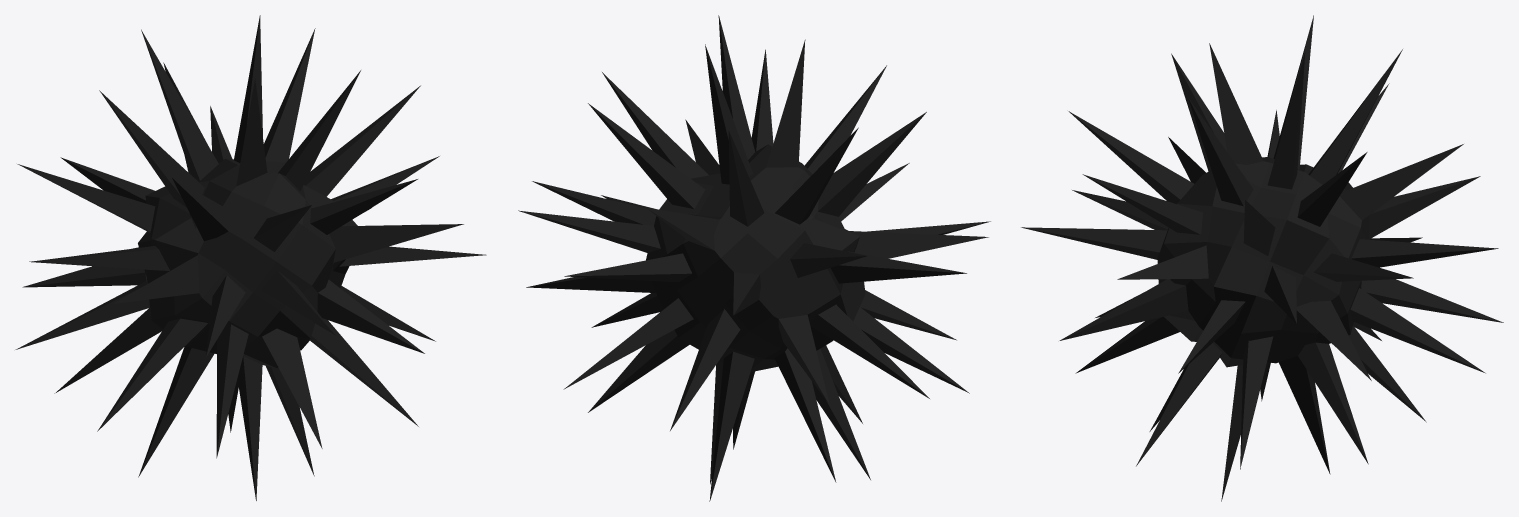
The model's file is Dark2.fbx.
3 renders of one model, left to right at view 1: azimuth 30°, elevation 25°; view 2: azimuth 150°, elevation 25°; view 3: azimuth 270°, elevation 25°, orthographic. The views are drawn at different scales.
Visible parts, largest first — view 1: Cube; view 2: Cube; view 3: Cube.
Boxes of the visible parts, x1,y1,x2,y2 form: Cube: (15, 15, 486, 500); Cube: (518, 15, 990, 501); Cube: (1021, 15, 1503, 501).
Bounding box in the file's own units: 181 × 178 × 176.
